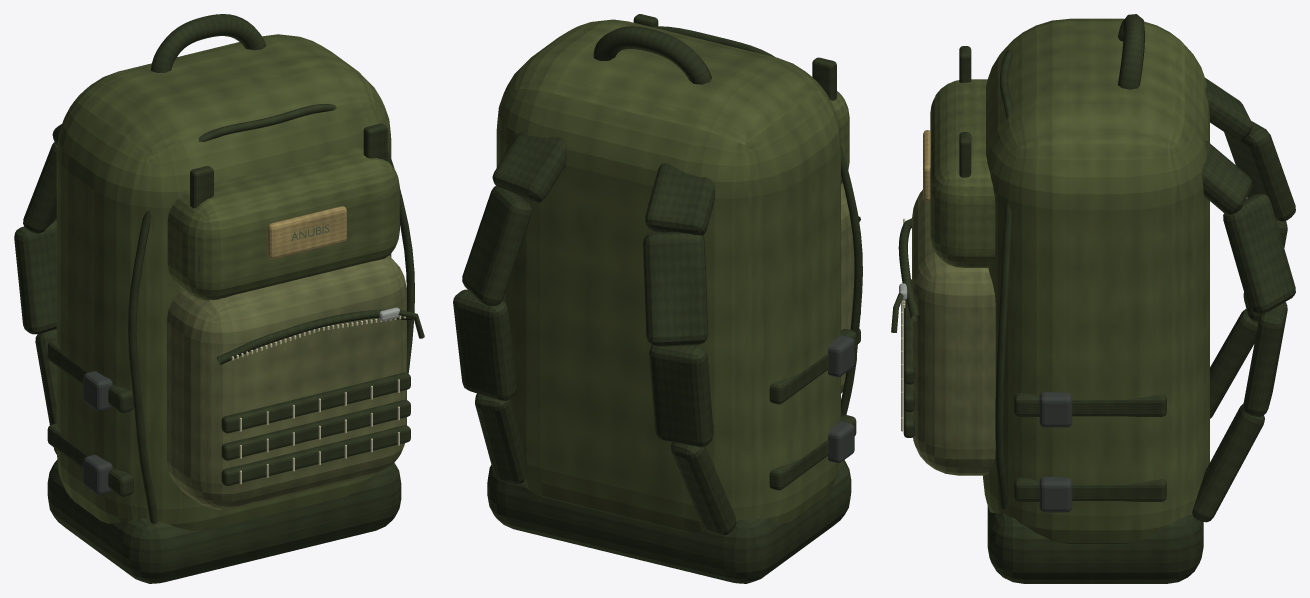
Rendered from mochila-realista.glb.
The picture shows the model from 3 angles, left to right: view 1: azimuth 30°, elevation 25°; view 2: azimuth 150°, elevation 25°; view 3: azimuth 270°, elevation 25°; orthographic projection. The views are drawn at different scales.
Parts seen in each view (by area): view 1: Lona oliva tramada, Cincha verde oscuro, Lona de bolsillos, Parche arena, Goma negra.001, Hilo caqui; view 2: Lona oliva tramada, Cincha verde oscuro, Goma negra.001, Lona de bolsillos; view 3: Lona oliva tramada, Cincha verde oscuro, Lona de bolsillos, Goma negra.001, Parche arena.
Part boxes in pixels (<box>): Lona oliva tramada: <box>56,34,399,530</box>; Cincha verde oscuro: <box>14,14,424,583</box>; Lona de bolsillos: <box>167,255,406,509</box>; Parche arena: <box>267,206,346,259</box>; Goma negra.001: <box>83,206,399,494</box>; Hilo caqui: <box>231,315,405,484</box>; Lona oliva tramada: <box>496,19,849,532</box>; Cincha verde oscuro: <box>453,14,862,583</box>; Goma negra.001: <box>828,335,854,463</box>; Lona de bolsillos: <box>841,182,856,393</box>; Lona oliva tramada: <box>930,18,1209,543</box>; Cincha verde oscuro: <box>891,14,1295,583</box>; Lona de bolsillos: <box>912,190,995,475</box>; Goma negra.001: <box>943,219,1072,512</box>; Parche arena: <box>923,130,930,201</box>.
Size of the model in its own units: 0.356 by 0.5475 by 0.3976.
9 materials, 4 textured.
